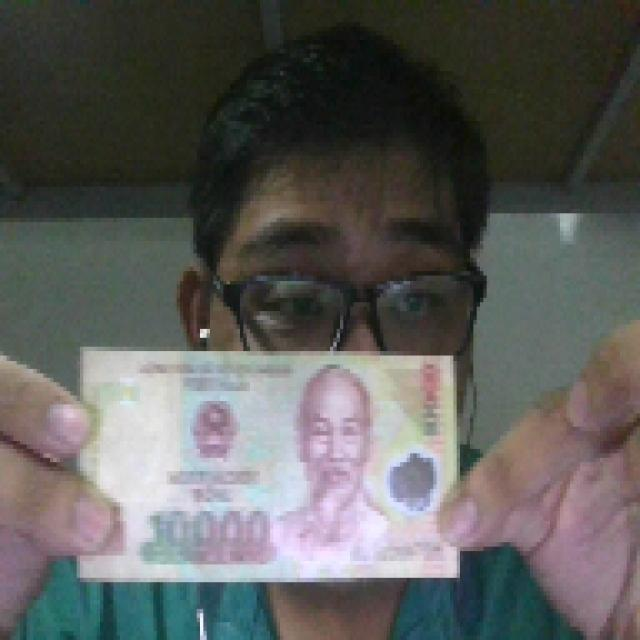10 000 VND: (70, 344, 467, 589)
